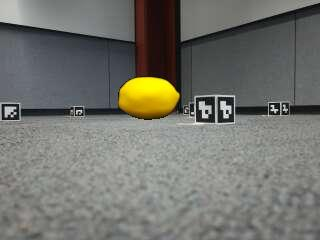lemon: (119, 78, 179, 119)
